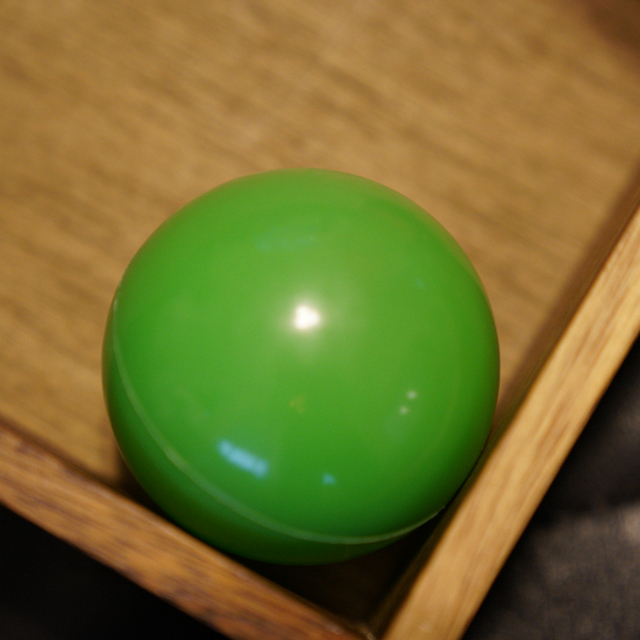Ball: (91, 171, 503, 563)
